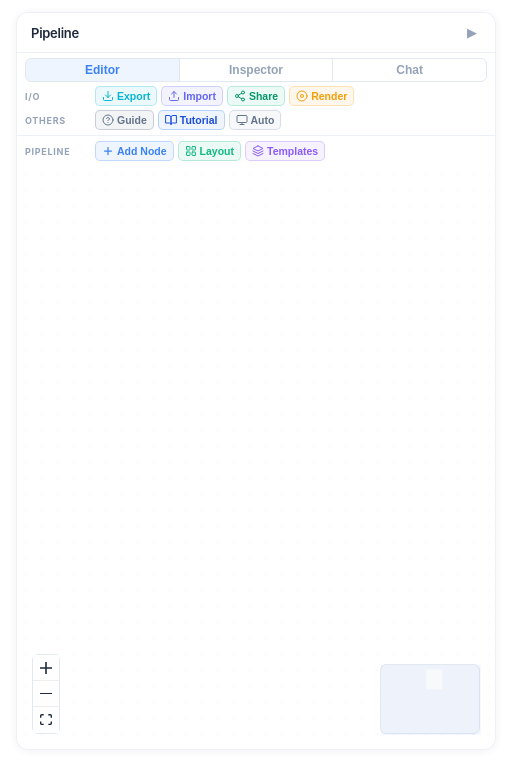
Test: PipelineEditor — tab switching › keeps the I/O row visible from both tabs and hides the Others row on chat
The width and height of the screenshot is (508, 767).
Check: the button with test id "pipeline-editor-share" is shown, box 227,86 -> 285,106
Check: the button with test id "pipeline-editor-render" is shown, box 289,86 -> 354,106
Click the tab with test id "pipeline-editor-tab-chat": (410, 70) 333,59 -> 486,81
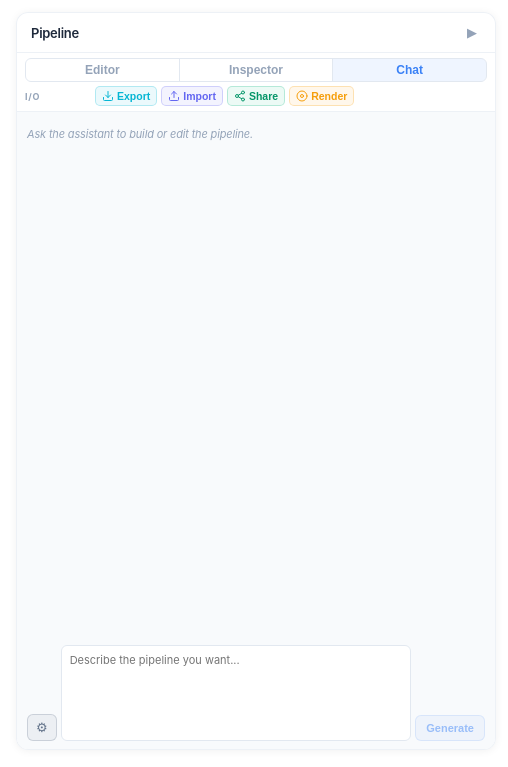
Check: the button with test id "pipeline-editor-share" is shown, box 227,86 -> 285,106
Check: the element with test id "pipeline-editor-others-row" is gone
Check: the button with test id "pipeline-editor-theme" is gone
